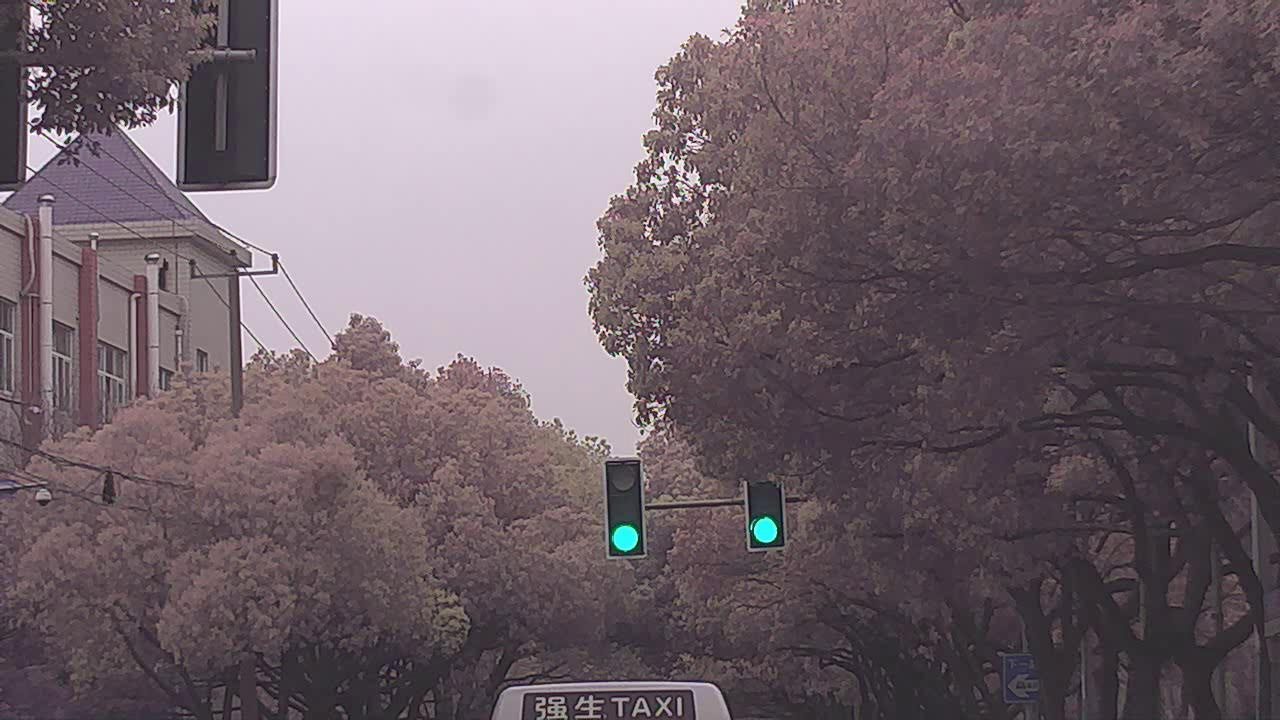traffic_light: (608, 460, 647, 557), (745, 475, 788, 553)
